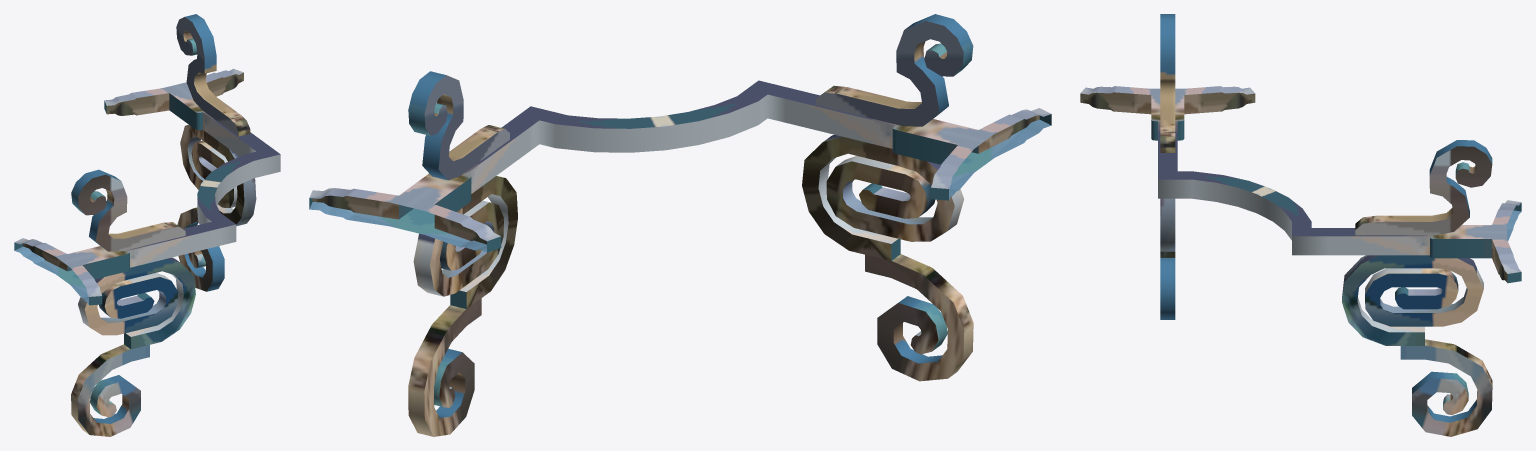
File: FenceA01.FBX
3 renders of one model, left to right at view 1: azimuth 30°, elevation 25°; view 2: azimuth 150°, elevation 25°; view 3: azimuth 270°, elevation 25°, orthographic. The views are drawn at different scales.
Visible parts, largest first — view 1: Object010; view 2: Object010; view 3: Object010.
Boxes of the visible parts, x1,y1,x2,y2 form: Object010: (14, 14, 280, 436); Object010: (309, 14, 1051, 436); Object010: (1080, 14, 1521, 436).
Size of the model in its own units: 97.84 by 71.1 by 97.84.
